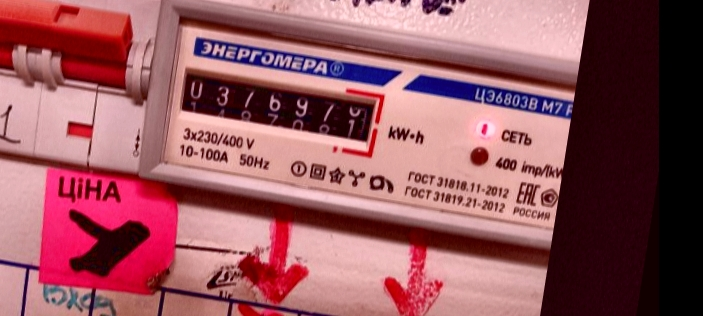0: (185, 76, 203, 100)
1: (342, 116, 354, 139)
3: (213, 84, 229, 106)
6: (264, 88, 283, 113)
7: (238, 85, 256, 110), (317, 97, 335, 122)
9: (291, 94, 308, 118)
screen: (164, 57, 387, 161)
